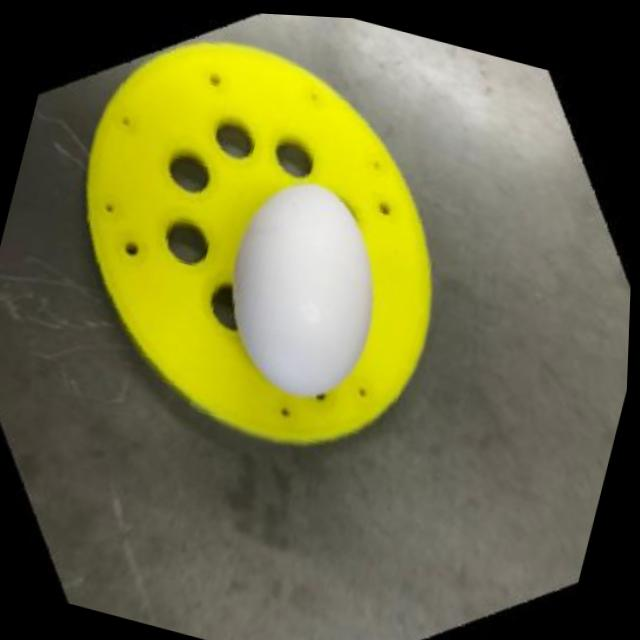egg: (202, 159, 405, 408)
